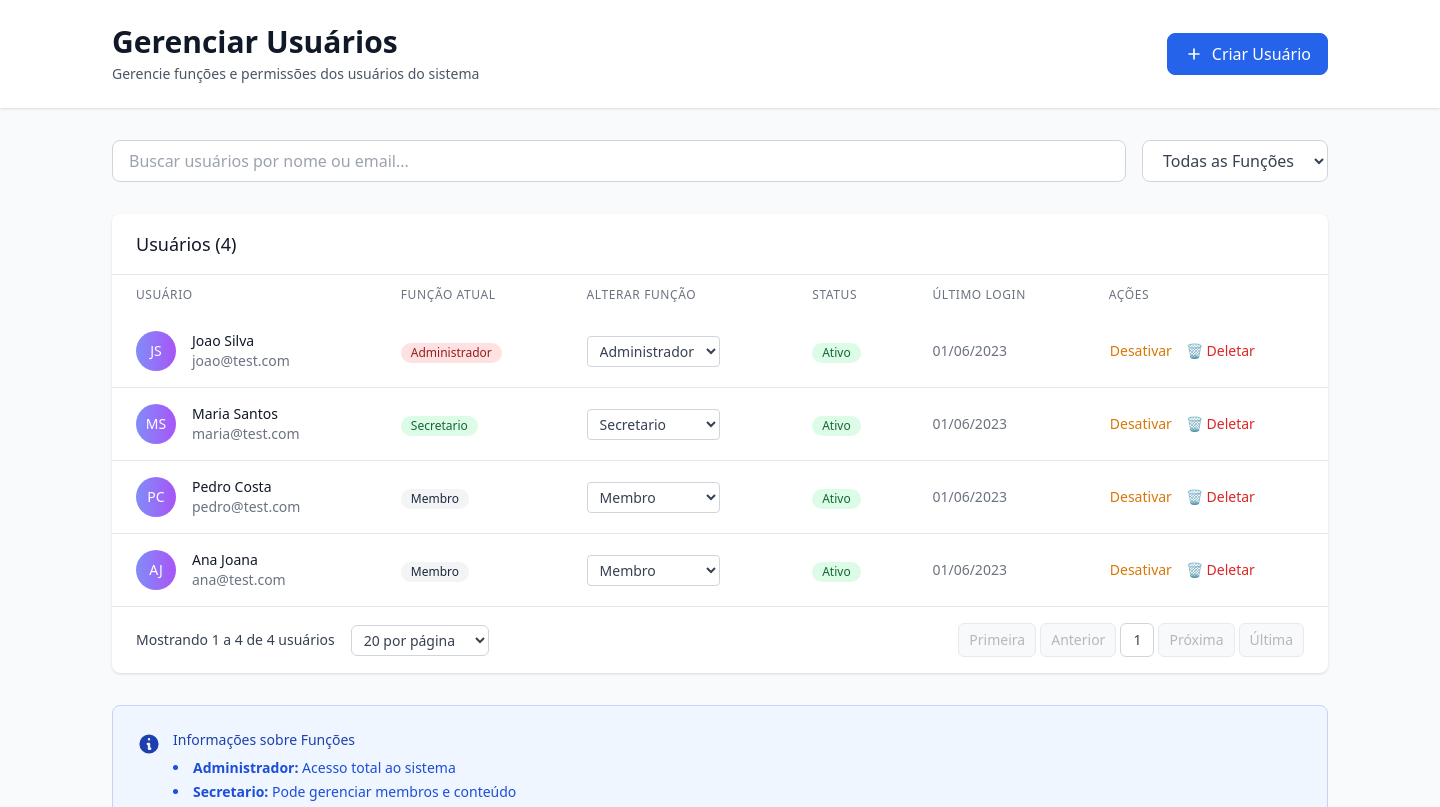
Test: UserManagementPage › Filtering › should combine search and role filters
Check: the text "Joao Silva" is shown, box [192,331,254,350]
// Filter by role first
Select "Membro" in the 1st dropdown at {"x": 1235, "y": 161}, box [1142,140,1328,182]
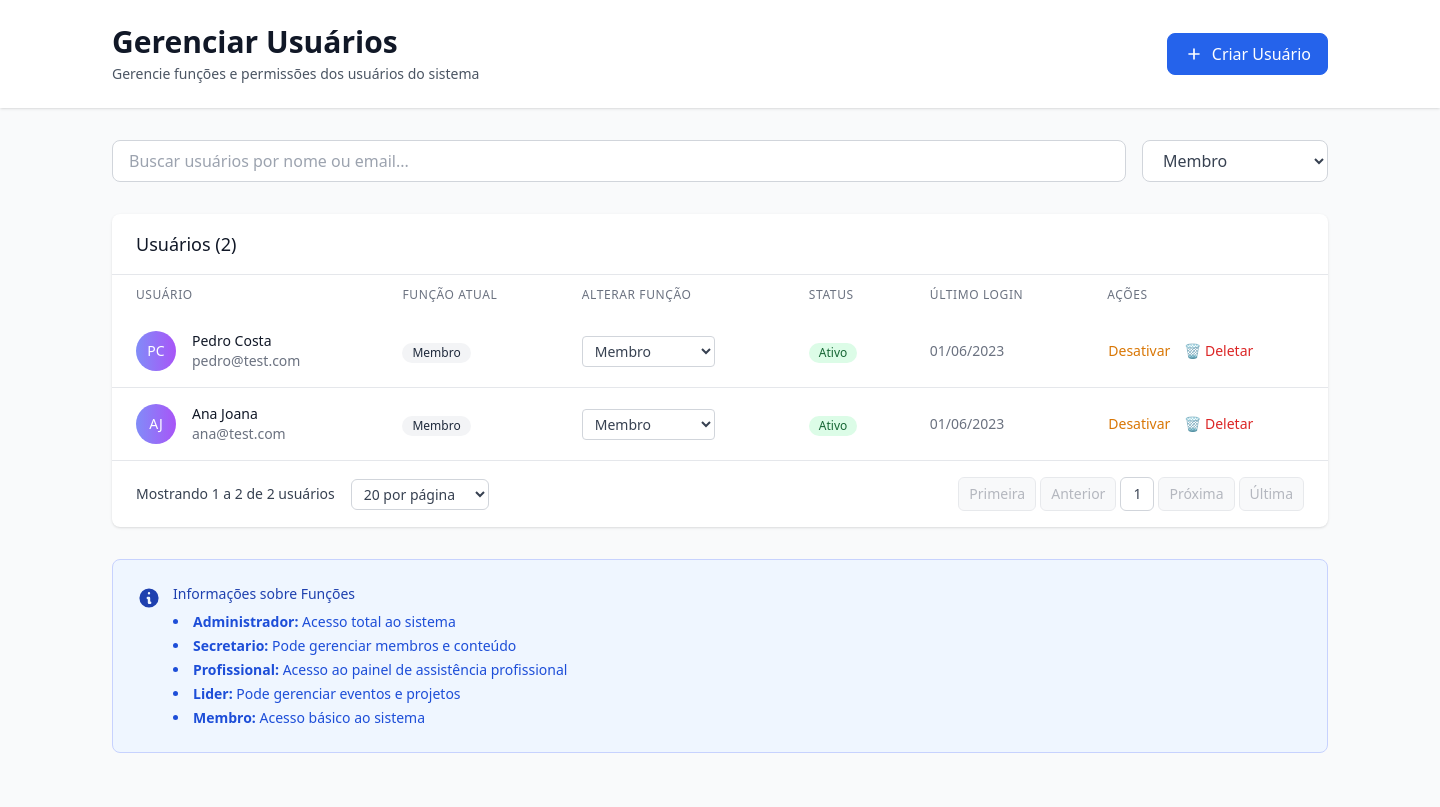
// Then filter by search
Type "Pedro" into the field with placeholder "Buscar usuários por nome ou email..." at {"x": 619, "y": 161}, box [112,140,1126,182]
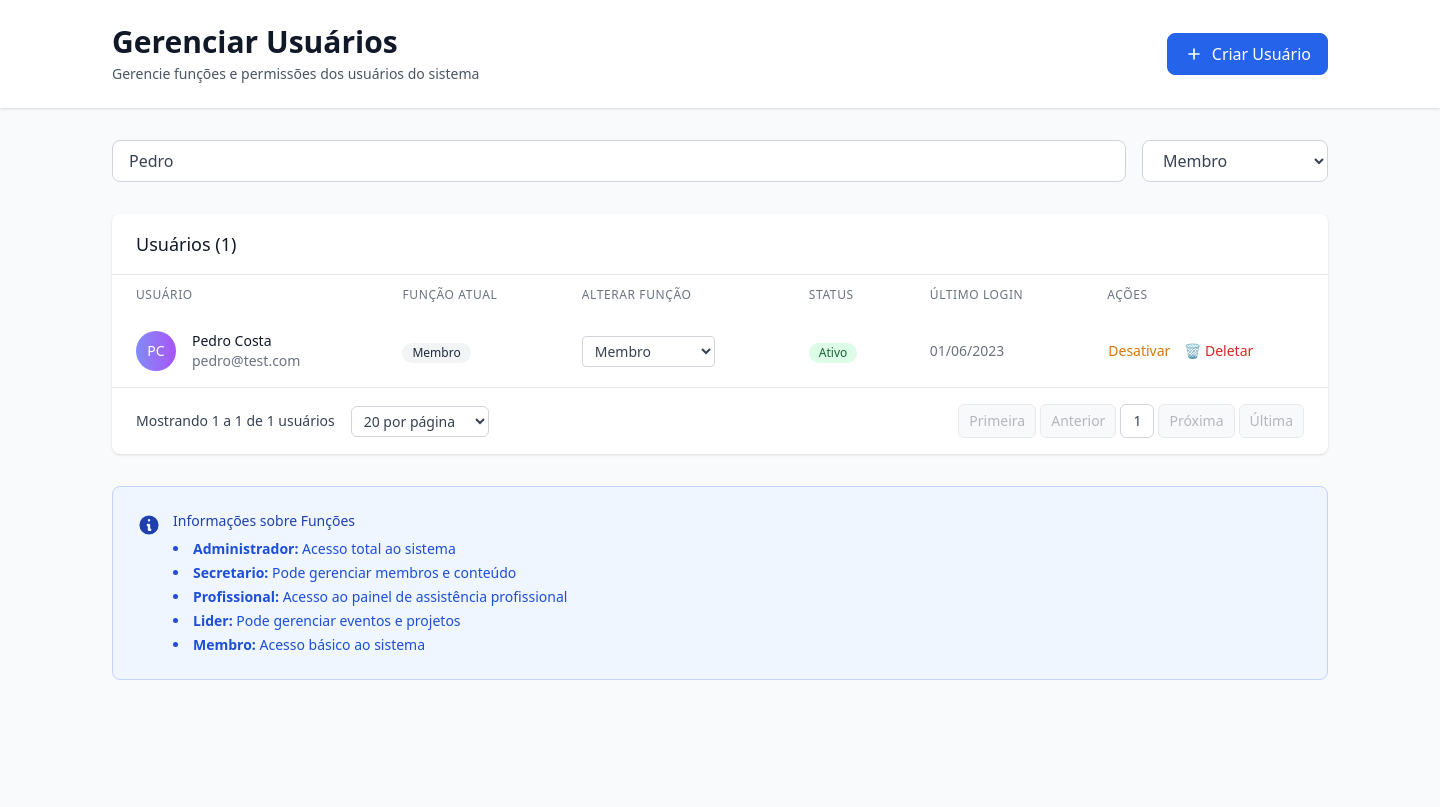
Check: the text "Pedro Costa" is shown, box [192,331,272,350]
Check: the text "Ana Joana" is gone
